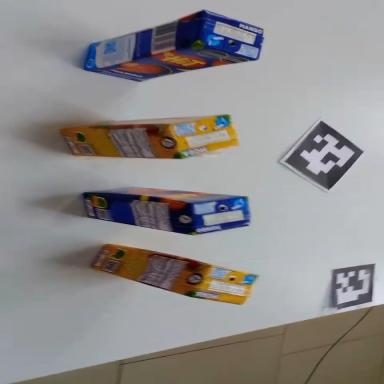HIT-MANGO: (77, 0, 268, 91), (80, 183, 252, 240)
HIT-MORA: (90, 237, 258, 311), (60, 113, 239, 161)
cara_F: (87, 34, 255, 92), (82, 182, 246, 210), (61, 114, 225, 129)
